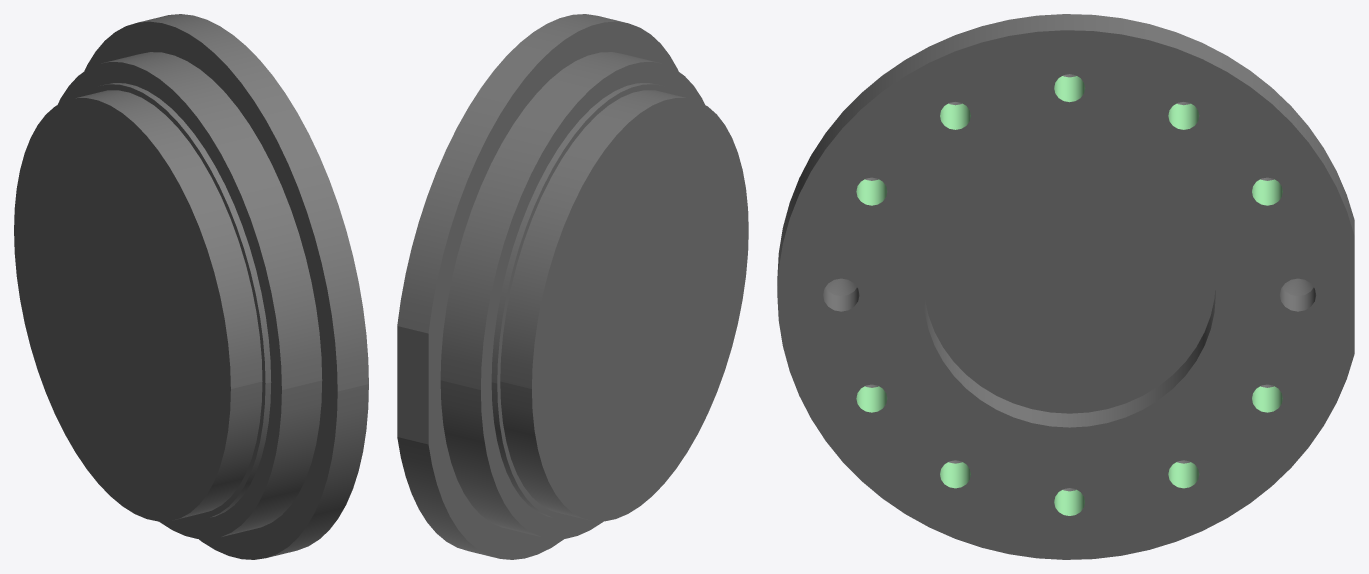
3 renders of one model, left to right at view 1: azimuth 30°, elevation 25°; view 2: azimuth 150°, elevation 25°; view 3: azimuth 270°, elevation 25°, orthographic. The views are drawn at different scales.
Parts seen in each view (by area): view 1: Mesh_0; view 2: Mesh_0; view 3: Mesh_0.
Boxes of the visible parts, x1,y1,x2,y2 form: Mesh_0: [14, 14, 368, 559]; Mesh_0: [397, 14, 748, 559]; Mesh_0: [777, 14, 1354, 559].
Bounding box in the file's own units: 0.0365 × 0.16 × 0.158.
